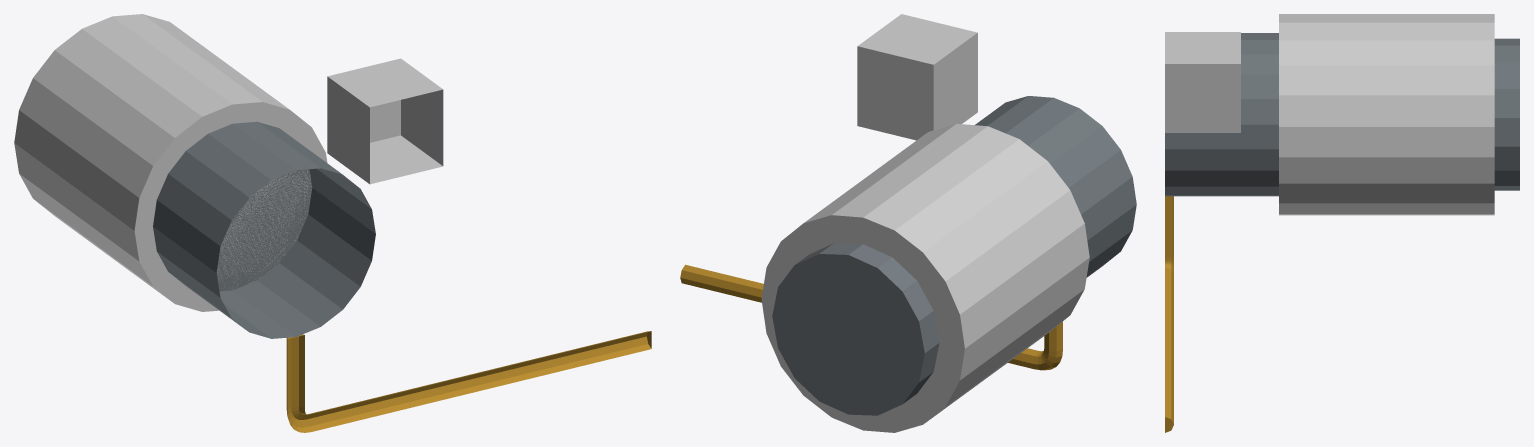
File: cell_61.obj
3 renders of one model, left to right at view 1: azimuth 30°, elevation 25°; view 2: azimuth 150°, elevation 25°; view 3: azimuth 270°, elevation 25°, orthographic. The views are drawn at different scales.
Size of the model in its own units: 0.74 by 0.484 by 0.56.
